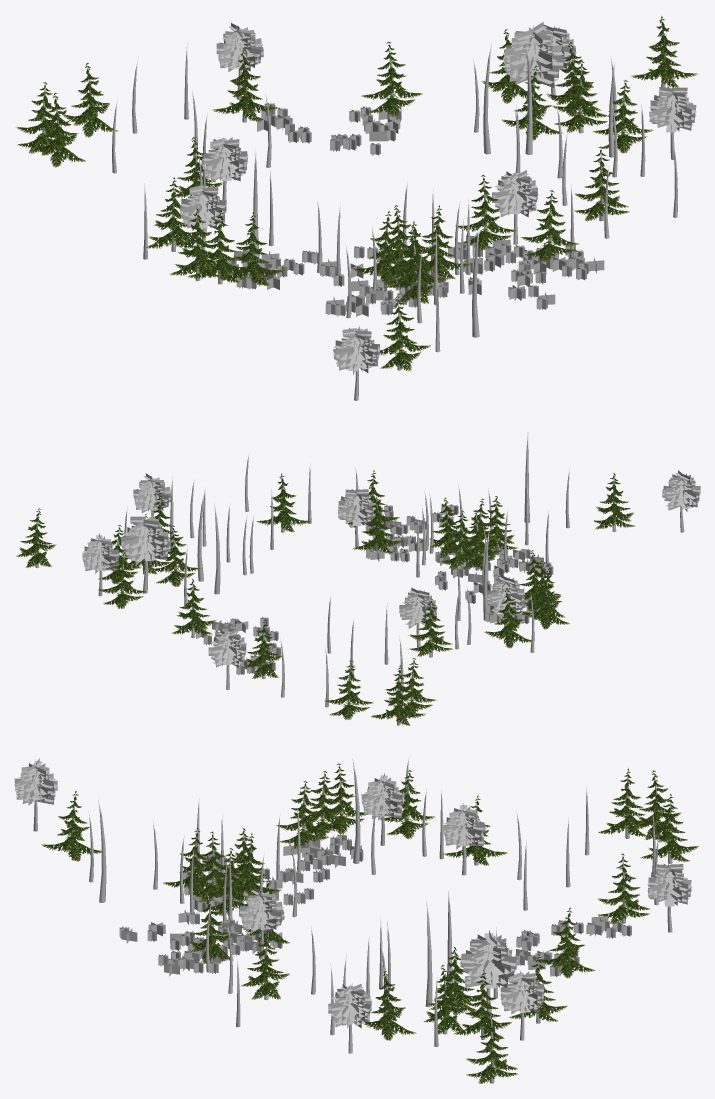
File: trees3.obj
3 views of the same model, one above another, from view 1: azimuth 30°, elevation 25°; view 2: azimuth 150°, elevation 25°; view 3: azimuth 270°, elevation 25° (orthographic). The views are drawn at different scales.
Parts seen in each view (by area): view 1: Green_sosna.010_Plane.001, Green_sosna.008_Plane.001, Green_sosna.023_Plane.001, Green_sosna.001_Plane.001, Green_sosna.019_Plane.001, Green_sosna.016_Plane.001, Green_sosna.026_Plane.001, Green_elka.006_Plane.001, Green_elka.021_Plane.001, Green_elka.088_Plane.001, Green_elka.035_Plane.001, Green_elka.040_Plane.001 (+21 smaller); view 2: Green_sosna.010_Plane.001, Green_sosna.023_Plane.001, Green_sosna.016_Plane.001, Green_sosna.001_Plane.001, Green_sosna.011_Plane.001, Green_sosna.008_Plane.001, Green_sosna.026_Plane.001, Green_sosna.019_Plane.001, Green_elka.049_Plane.001, Green_elka.060_Plane.001, Green_elka.067_Plane.001, Green_elka.088_Plane.001 (+16 smaller); view 3: Green_sosna.010_Plane.001, Green_sosna.016_Plane.001, Green_sosna.011_Plane.001, Green_sosna.008_Plane.001, Green_sosna.001_Plane.001, Green_sosna.023_Plane.001, Green_sosna.026_Plane.001, Green_sosna.019_Plane.001, Green_elka.022_Plane.001, Green_elka.073_Plane.001, Green_elka.017_Plane.001, Green_elka.006_Plane.001 (+20 smaller).
Boxes of the visible parts, x1,y1,x2,y2 form: Green_sosna.010_Plane.001: [503, 22, 564, 87]; Green_sosna.008_Plane.001: [649, 86, 696, 134]; Green_sosna.023_Plane.001: [333, 326, 380, 374]; Green_sosna.001_Plane.001: [491, 170, 538, 217]; Green_sosna.019_Plane.001: [201, 137, 247, 183]; Green_sosna.016_Plane.001: [216, 23, 263, 71]; Green_sosna.026_Plane.001: [179, 183, 227, 229]; Green_elka.006_Plane.001: [361, 42, 422, 117]; Green_elka.021_Plane.001: [520, 190, 579, 263]; Green_elka.088_Plane.001: [380, 296, 430, 371]; Green_elka.035_Plane.001: [552, 60, 607, 132]; Green_elka.040_Plane.001: [455, 175, 515, 250]; Green_sosna.010_Plane.001: [120, 515, 170, 565]; Green_sosna.023_Plane.001: [662, 470, 700, 511]; Green_sosna.016_Plane.001: [208, 629, 246, 667]; Green_sosna.001_Plane.001: [337, 489, 375, 525]; Green_sosna.011_Plane.001: [82, 533, 119, 573]; Green_sosna.008_Plane.001: [133, 473, 171, 512]; Green_sosna.026_Plane.001: [486, 574, 524, 615]; Green_sosna.019_Plane.001: [399, 587, 437, 628]; Green_elka.049_Plane.001: [98, 549, 145, 608]; Green_elka.060_Plane.001: [324, 660, 373, 719]; Green_elka.067_Plane.001: [408, 598, 453, 656]; Green_elka.088_Plane.001: [594, 473, 635, 529]; Green_sosna.010_Plane.001: [459, 930, 517, 988]; Green_sosna.016_Plane.001: [647, 864, 691, 908]; Green_sosna.011_Plane.001: [500, 970, 544, 1015]; Green_sosna.008_Plane.001: [328, 983, 371, 1028]; Green_sosna.001_Plane.001: [240, 887, 284, 933]; Green_sosna.023_Plane.001: [14, 758, 58, 805]; Green_sosna.026_Plane.001: [361, 773, 405, 820]; Green_sosna.019_Plane.001: [442, 803, 486, 849]; Green_elka.022_Plane.001: [466, 1013, 517, 1083]; Green_elka.073_Plane.001: [598, 854, 650, 923]; Green_elka.017_Plane.001: [241, 931, 290, 999]; Green_elka.006_Plane.001: [539, 907, 595, 978].
Size of the model in its own units: 40.52 by 7.18 by 42.27.
